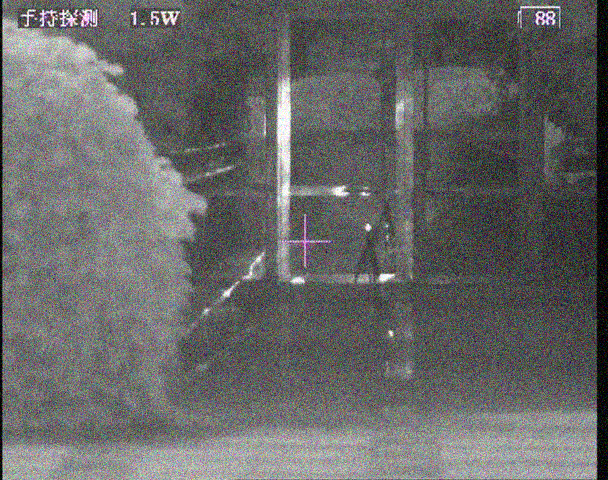my: (363, 222, 373, 233)
